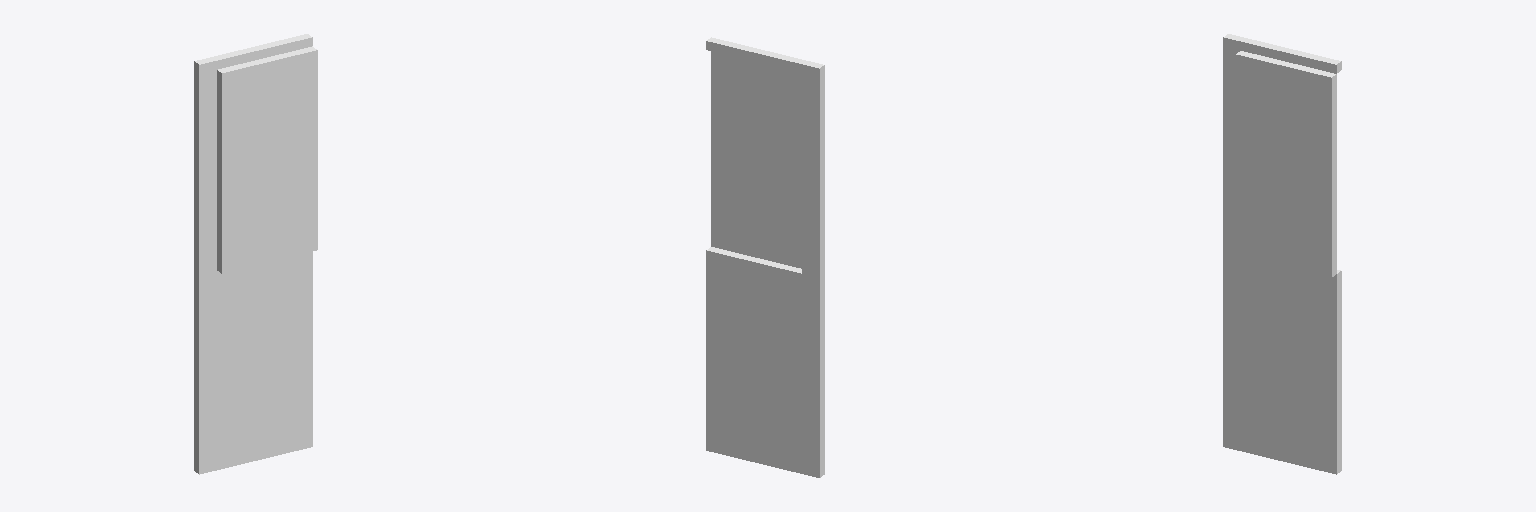
The model's file is puerta metro.obj.
3 renders of one model, left to right at view 1: azimuth 30°, elevation 25°; view 2: azimuth 150°, elevation 25°; view 3: azimuth 330°, elevation 25°, orthographic.
Visible parts, largest first — view 1: object 1; view 2: object 1; view 3: object 1.
Boxes of the visible parts, <box> form: object 1: <box>194,34,317,474</box>; object 1: <box>706,37,824,477</box>; object 1: <box>1223,34,1341,474</box>.
Bounding box in the file's own units: 1.3 × 4.5 × 0.2.